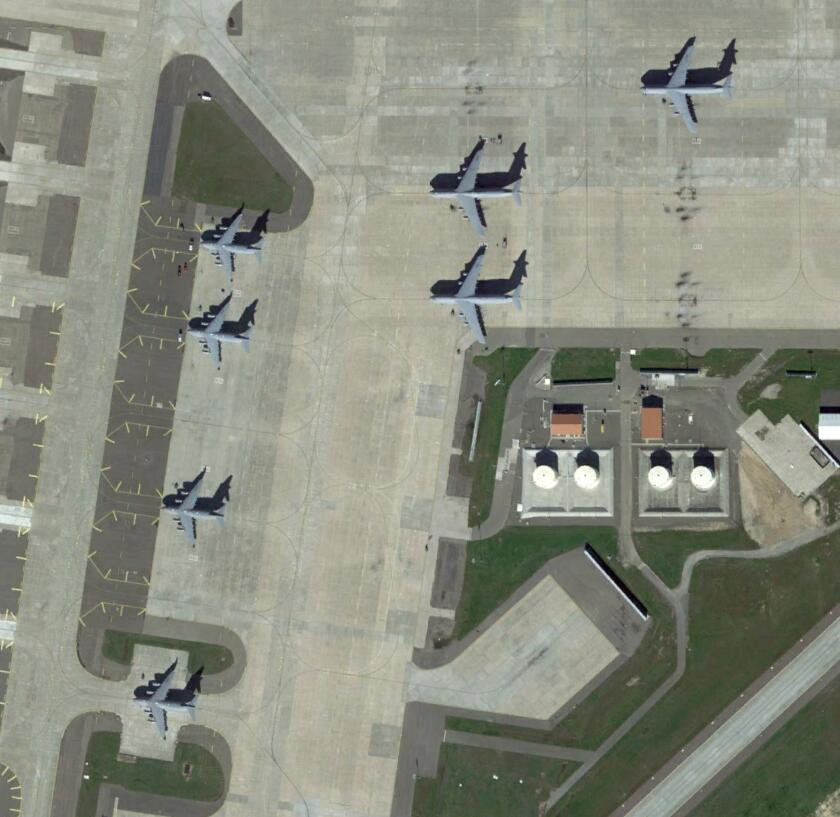A3: (161, 469, 230, 554), (132, 660, 200, 742), (186, 293, 257, 371), (199, 210, 268, 286)
A4: (428, 250, 527, 348), (430, 142, 524, 242), (642, 45, 734, 139)
